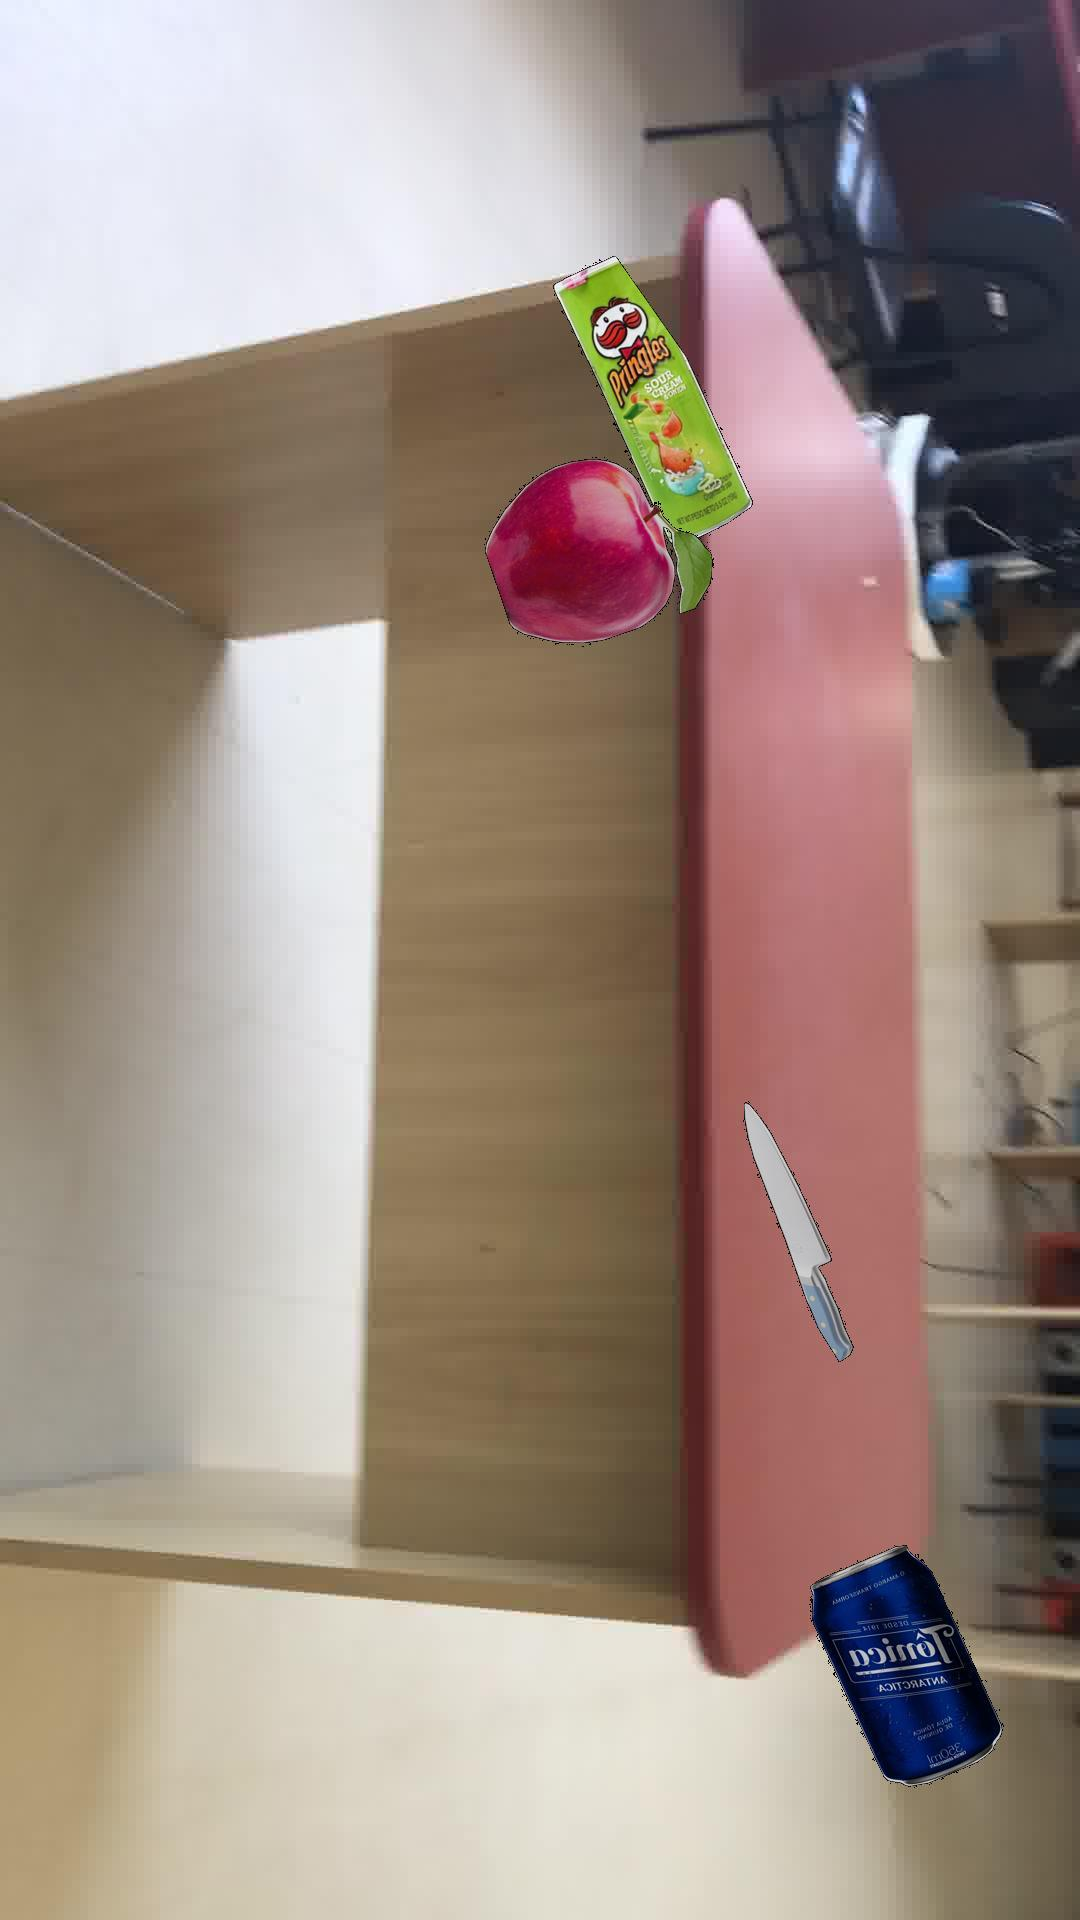apple: (484, 458, 712, 641)
knife: (742, 1101, 852, 1361)
pringles: (551, 255, 752, 542)
tonic: (808, 1543, 1001, 1785)
